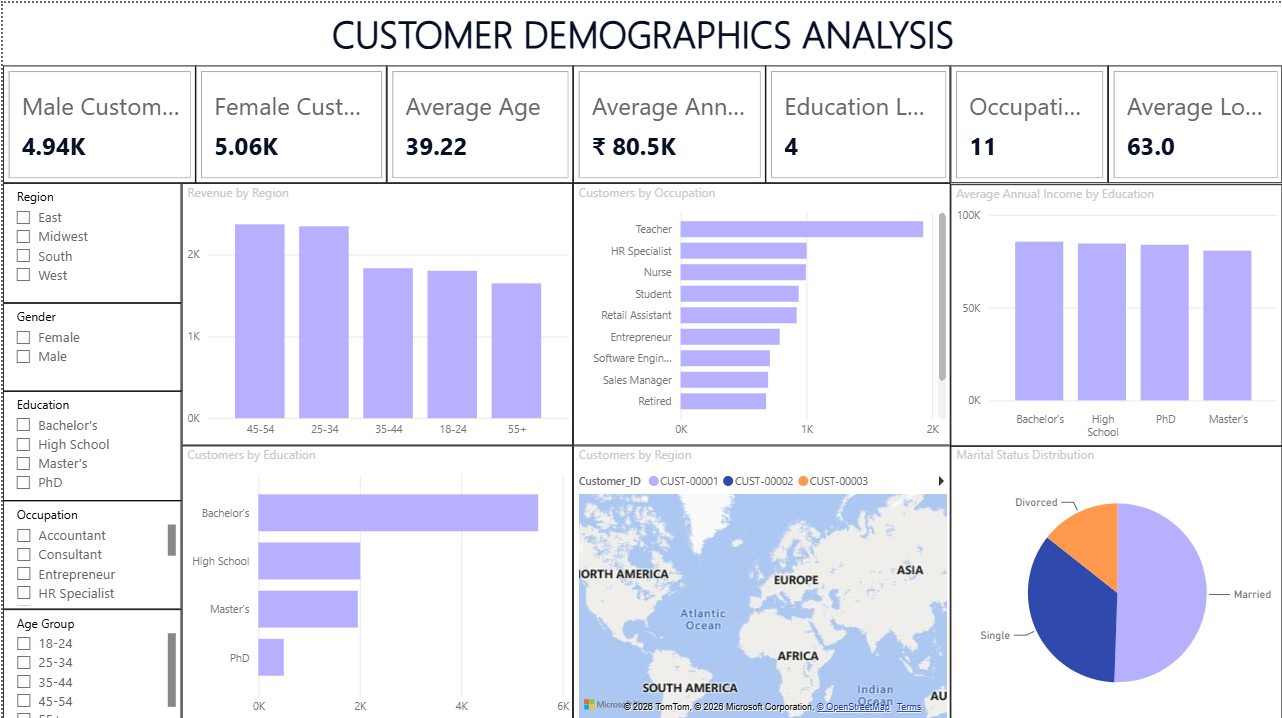

The dashboard page shown, as its layout file describes it:
{"tool":"powerbi","page":{"name":"CUSTOMER DEMOGRAPHICS ANALYSIS","canvas":[1280,720],"ordinal":1},"visuals":[{"type":"cardVisual","fields":{"Data":["Customer Data.Male Customers"]},"box":[0,62.5,192.5,117.5],"z":0},{"type":"cardVisual","fields":{"Data":["Customer Data.Average Annual Income"]},"box":[570,62.5,192.5,117.5],"z":1000},{"type":"cardVisual","fields":{"Data":["Customer Data.Education Levels"]},"box":[762.5,62.5,185,117.5],"z":2000},{"type":"cardVisual","fields":{"Data":["Customer Data.Average Loyalty Score"]},"box":[1105,62.5,175,117.5],"z":3000},{"type":"cardVisual","fields":{"Data":["Customer Data.Occupations"]},"box":[947.5,62.5,157.5,117.5],"z":4000},{"type":"cardVisual","fields":{"Data":["Customer Data.Average Age"]},"box":[383.8,62.5,186.2,117.5],"z":5000},{"type":"cardVisual","fields":{"Data":["Customer Data.Female Customers"]},"box":[192.5,62.5,191.2,117.5],"z":6000},{"type":"clusteredColumnChart","title":"Revenue by Region","fields":{"Category":["Customer Data.Age Group"],"Y":["CountNonNull(Customer Data.Customer_ID)"]},"box":[178.8,180,391.2,262.5],"z":7000},{"type":"barChart","title":"Customers by Education","fields":{"Y":["CountNonNull(Customer Data.Customer_ID)"],"Category":["Customer Data.Education"]},"box":[178.8,442.5,391.2,277.5],"z":8000},{"type":"clusteredBarChart","title":"Customers by Occupation","fields":{"Category":["Customer Data.Occupation"],"Y":["CountNonNull(Customer Data.Customer_ID)"]},"box":[570,180,377.5,262.5],"z":9000},{"type":"filledMap","title":"Customers by Region","fields":{"Category":["Customer Data.Region"],"Series":["Customer Data.Customer_ID"]},"box":[570,442.5,377.5,277.5],"z":10000},{"type":"clusteredColumnChart","title":"Average Annual Income by Education","fields":{"Category":["Customer Data.Education"],"Y":["Customer Data.Average Income"]},"box":[947.5,181.2,332.5,262.5],"z":11000},{"type":"textbox","box":[0,0,1280,62.5],"z":12000},{"type":"slicer","fields":{"Values":["Customer Data.Region"]},"box":[0,180,178.8,120],"z":13000},{"type":"slicer","fields":{"Values":["Customer Data.Gender"]},"box":[0,300,178.8,88.8],"z":14000},{"type":"slicer","fields":{"Values":["Customer Data.Education"]},"box":[0,387.5,178.8,110],"z":15000},{"type":"slicer","fields":{"Values":["Customer Data.Occupation"]},"box":[0,497.5,178.8,108.8],"z":16000},{"type":"slicer","fields":{"Values":["Customer Data.Age Group"]},"box":[0,606.2,178.8,113.8],"z":17000},{"type":"pieChart","title":"Marital Status Distribution","fields":{"Category":["Customer Data.Marital_Status"],"Y":["CountNonNull(Customer Data.Customer_ID)"]},"box":[947.5,442.5,332.5,277.5],"z":18000}]}

Visuals, with their boxes in screenshot pixels (x1, y1, x2, y2), scaled from the page's 1280x720 canvas onto the 1282x718 screenshot:
cardVisual - Customer Data.Male Customers: 0,62,193,180
cardVisual - Customer Data.Average Annual Income: 571,62,764,180
cardVisual - Customer Data.Education Levels: 764,62,949,180
cardVisual - Customer Data.Average Loyalty Score: 1107,62,1281,180
cardVisual - Customer Data.Occupations: 949,62,1107,180
cardVisual - Customer Data.Average Age: 384,62,571,180
cardVisual - Customer Data.Female Customers: 193,62,384,180
"Revenue by Region" clusteredColumnChart: 179,180,571,441
"Customers by Education" barChart: 179,441,571,717
"Customers by Occupation" clusteredBarChart: 571,180,949,441
"Customers by Region" filledMap: 571,441,949,717
"Average Annual Income by Education" clusteredColumnChart: 949,181,1281,442
textbox: 0,0,1281,62
slicer - Customer Data.Region: 0,180,179,299
slicer - Customer Data.Gender: 0,299,179,388
slicer - Customer Data.Education: 0,386,179,496
slicer - Customer Data.Occupation: 0,496,179,605
slicer - Customer Data.Age Group: 0,605,179,717
"Marital Status Distribution" pieChart: 949,441,1281,717
